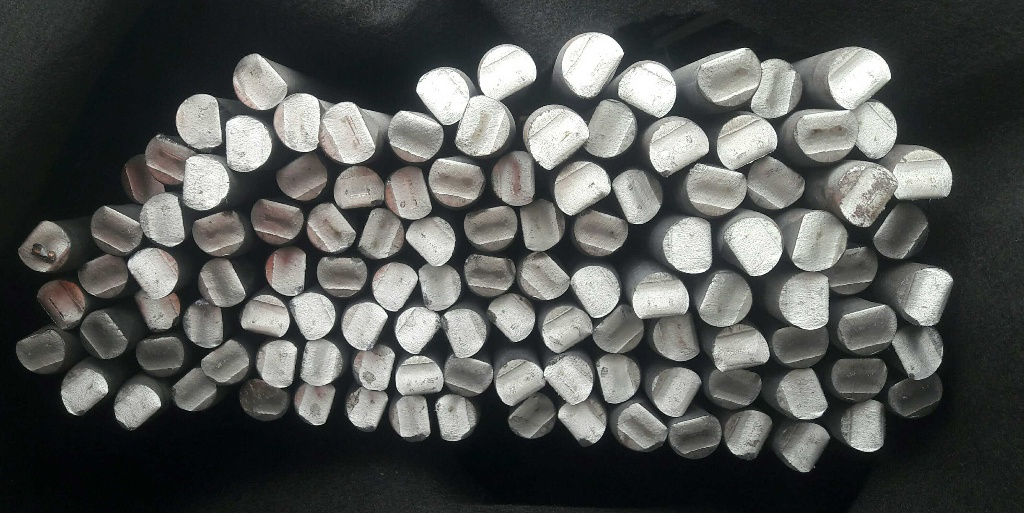dipstick: (562, 32, 626, 99), (829, 48, 892, 111), (837, 165, 899, 227), (698, 47, 761, 105), (529, 110, 590, 169), (321, 102, 379, 163), (788, 212, 847, 271), (871, 201, 930, 259), (580, 99, 637, 158), (717, 115, 777, 171), (455, 95, 510, 156), (725, 218, 782, 275), (898, 268, 954, 326), (491, 150, 550, 205), (796, 110, 857, 163), (747, 154, 805, 209), (650, 120, 709, 174), (687, 163, 746, 217), (232, 53, 287, 110), (554, 161, 612, 215), (415, 69, 470, 125), (479, 46, 536, 100), (748, 59, 800, 118), (619, 63, 675, 117), (664, 218, 720, 272), (894, 150, 952, 202), (274, 93, 325, 152), (846, 100, 897, 159), (838, 304, 897, 354), (633, 271, 688, 324), (840, 400, 896, 452), (891, 325, 943, 380), (779, 272, 829, 329), (700, 273, 753, 326), (388, 111, 442, 163), (429, 155, 483, 207), (334, 165, 385, 220), (611, 169, 662, 224), (223, 116, 272, 172), (353, 207, 405, 259), (139, 193, 190, 246), (145, 134, 198, 185), (176, 94, 226, 148), (385, 166, 435, 220), (779, 423, 833, 473), (18, 221, 70, 272), (591, 303, 644, 353), (777, 369, 830, 419), (830, 355, 887, 401), (80, 309, 131, 360), (276, 150, 328, 200), (570, 266, 620, 318), (119, 155, 172, 204), (192, 207, 245, 256), (464, 203, 517, 252), (828, 241, 877, 294), (250, 197, 304, 245), (128, 248, 179, 298), (651, 367, 702, 417), (518, 252, 571, 300), (574, 208, 627, 256), (183, 156, 229, 211), (653, 311, 703, 361), (90, 206, 141, 255), (198, 258, 249, 307), (516, 199, 565, 250), (888, 374, 943, 419), (184, 298, 233, 348), (371, 262, 421, 311), (406, 217, 455, 267), (542, 305, 593, 353), (713, 325, 768, 369), (772, 325, 828, 368), (342, 302, 391, 351), (307, 203, 356, 252), (543, 356, 593, 404), (593, 353, 640, 404), (286, 293, 335, 341), (557, 399, 606, 447), (619, 403, 667, 452), (725, 410, 773, 459), (670, 414, 722, 459), (496, 359, 546, 405), (37, 280, 85, 327), (61, 369, 109, 416), (487, 294, 534, 342), (266, 246, 312, 295), (508, 394, 558, 439), (16, 330, 67, 374), (465, 252, 516, 296), (114, 384, 161, 431), (256, 340, 303, 387), (241, 295, 289, 341), (79, 254, 128, 299), (317, 253, 366, 298), (708, 367, 761, 408), (395, 307, 441, 354), (352, 346, 399, 391), (441, 310, 486, 357), (394, 356, 444, 398), (240, 380, 291, 421), (136, 336, 184, 379), (444, 354, 492, 397), (201, 340, 248, 383), (299, 339, 342, 386), (419, 263, 461, 311), (345, 386, 389, 431), (172, 368, 217, 411), (393, 395, 435, 441), (435, 395, 477, 441), (294, 383, 338, 425), (135, 290, 180, 330)
